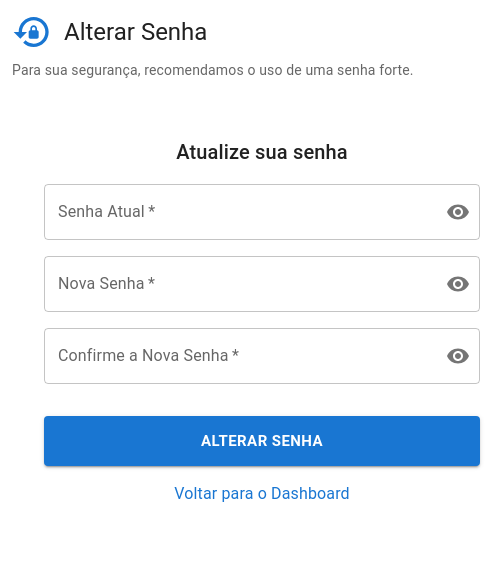
Test case: ChangePasswordPage › deve mostrar erro se a senha for muito curta (< 3 caracteres)
Type "123" into the password field labelled "Senha Atual *" at (237, 212), box top-left (44, 184), bottom-right (430, 240)
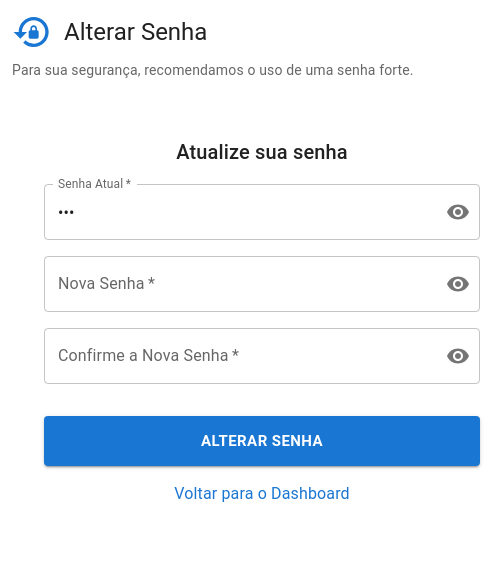
Type "12" into the password field labelled "Nova Senha *" at (237, 284), box top-left (44, 256), bottom-right (430, 312)
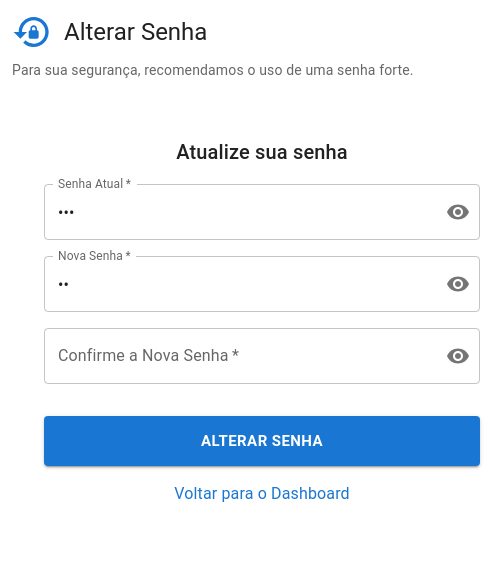
Type "12" into the password field labelled "Confirme a Nova Senha *" at (237, 356), box top-left (44, 328), bottom-right (430, 384)
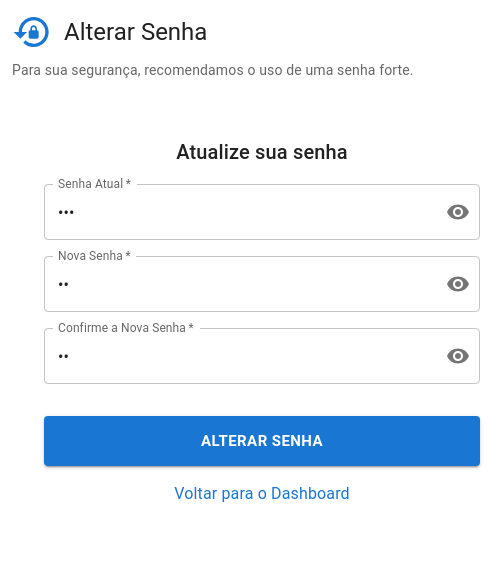
Click the button "Alterar Senha" at (262, 441), box top-left (44, 416), bottom-right (480, 466)
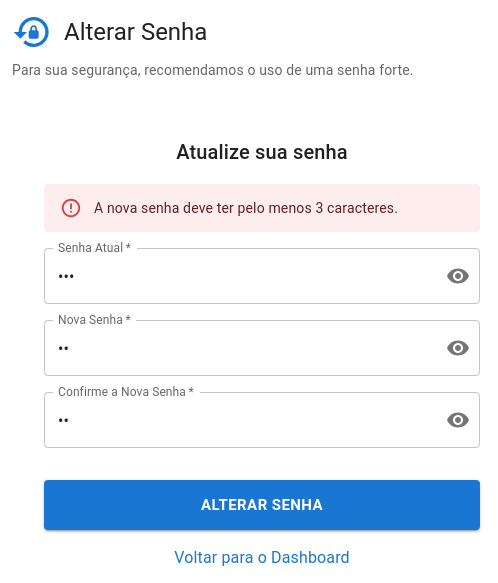
Now the text "A nova senha deve ter pelo menos 3 caracteres." is shown, box top-left (94, 200), bottom-right (398, 216)
